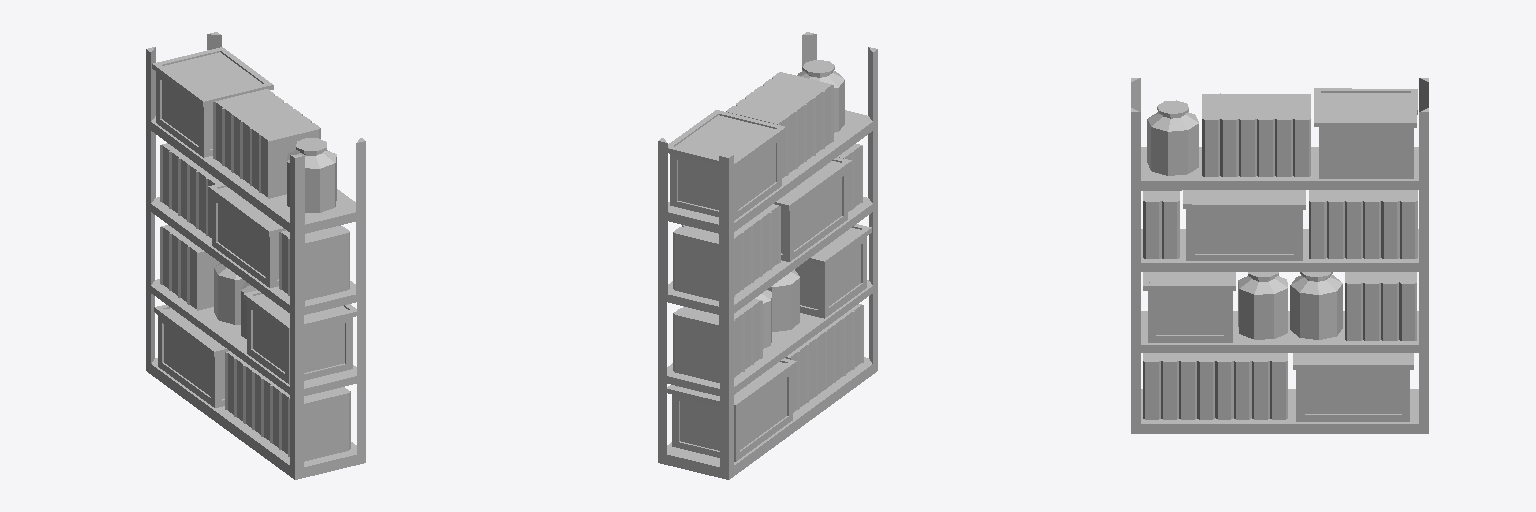
Rendered from newshelf_1.obj.
3 views of the same model, side by side, from view 1: azimuth 30°, elevation 25°; view 2: azimuth 150°, elevation 25°; view 3: azimuth 270°, elevation 25° (orthographic).
Parts seen in each view (by area): view 1: shelflowpoly_comb1_finsihed FINISHED_SHELVES; view 2: shelflowpoly_comb1_finsihed FINISHED_SHELVES; view 3: shelflowpoly_comb1_finsihed FINISHED_SHELVES.
Part boxes in pixels (bbox=[...]): shelflowpoly_comb1_finsihed FINISHED_SHELVES: bbox=[146, 32, 365, 479]; shelflowpoly_comb1_finsihed FINISHED_SHELVES: bbox=[658, 32, 877, 479]; shelflowpoly_comb1_finsihed FINISHED_SHELVES: bbox=[1131, 78, 1428, 433].
Size of the model in its own units: 2.51 by 10.89 by 9.13.